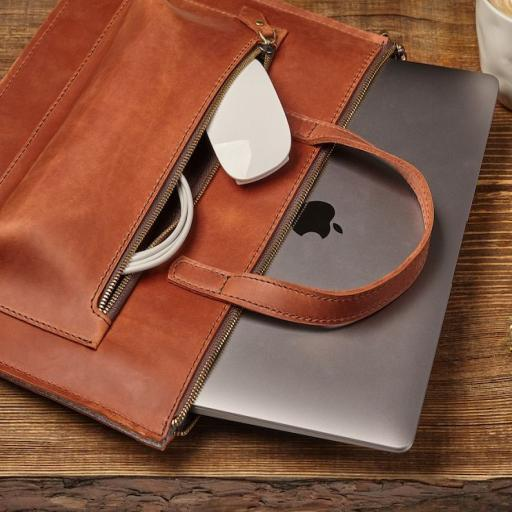corridor: (181, 54, 501, 463)
door: (1, 0, 436, 458)
